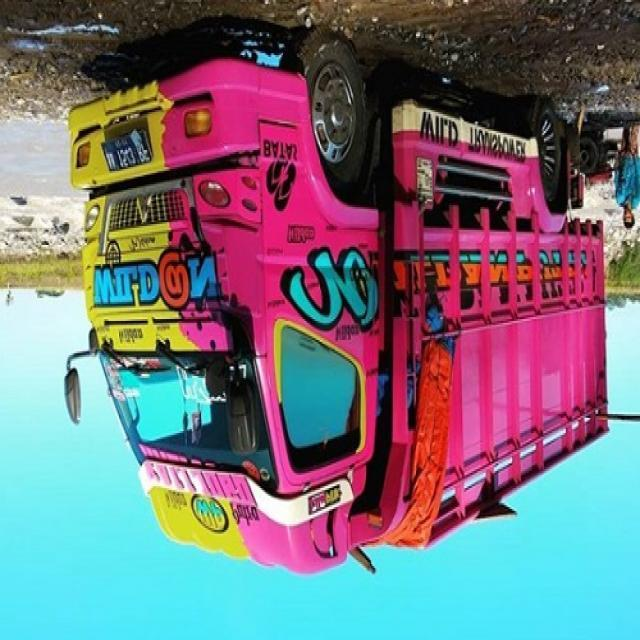truck: (60, 38, 612, 576)
